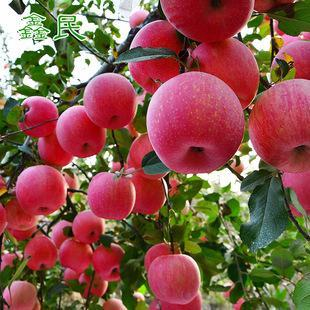apple: (144, 69, 246, 174), (246, 78, 310, 171), (187, 35, 259, 105), (126, 18, 192, 90), (160, 1, 256, 44), (82, 71, 137, 131), (145, 252, 199, 304), (14, 164, 68, 215), (57, 104, 106, 158), (86, 169, 136, 219), (102, 169, 152, 217), (125, 168, 166, 215), (17, 95, 58, 138), (23, 235, 58, 272), (58, 237, 92, 274), (93, 244, 127, 280)
